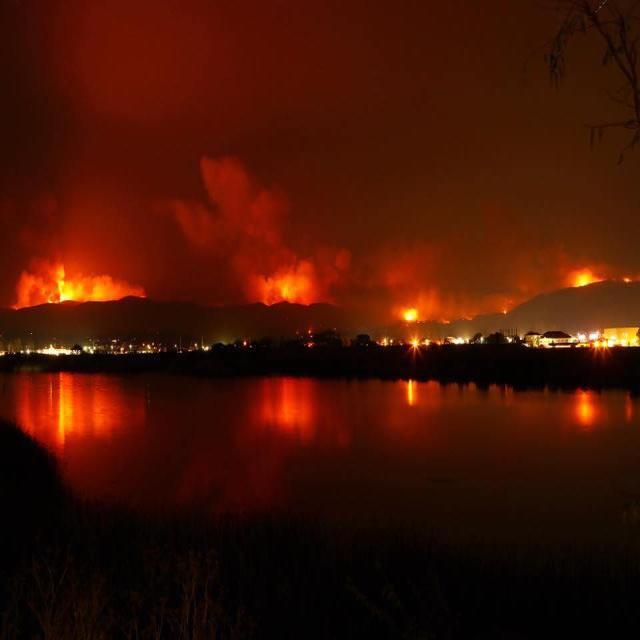Smoke: (156, 149, 347, 308), (366, 218, 640, 326), (8, 204, 153, 316)
